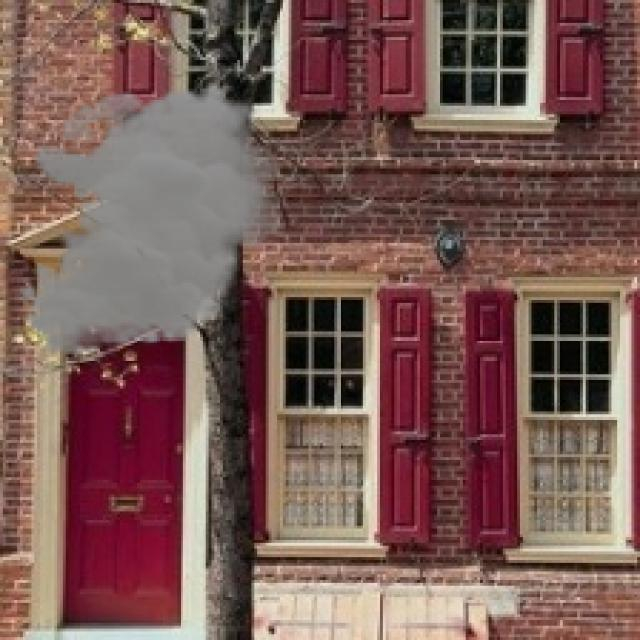smoke: (17, 83, 294, 357)
